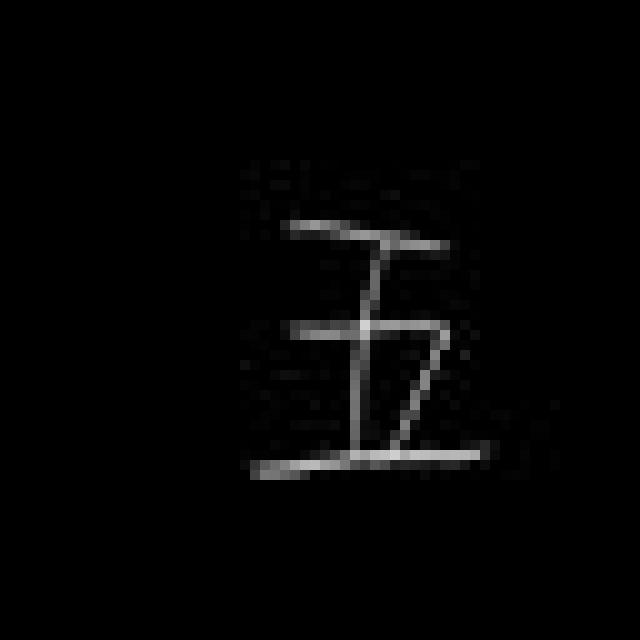5 -five-: (245, 204, 496, 494)
